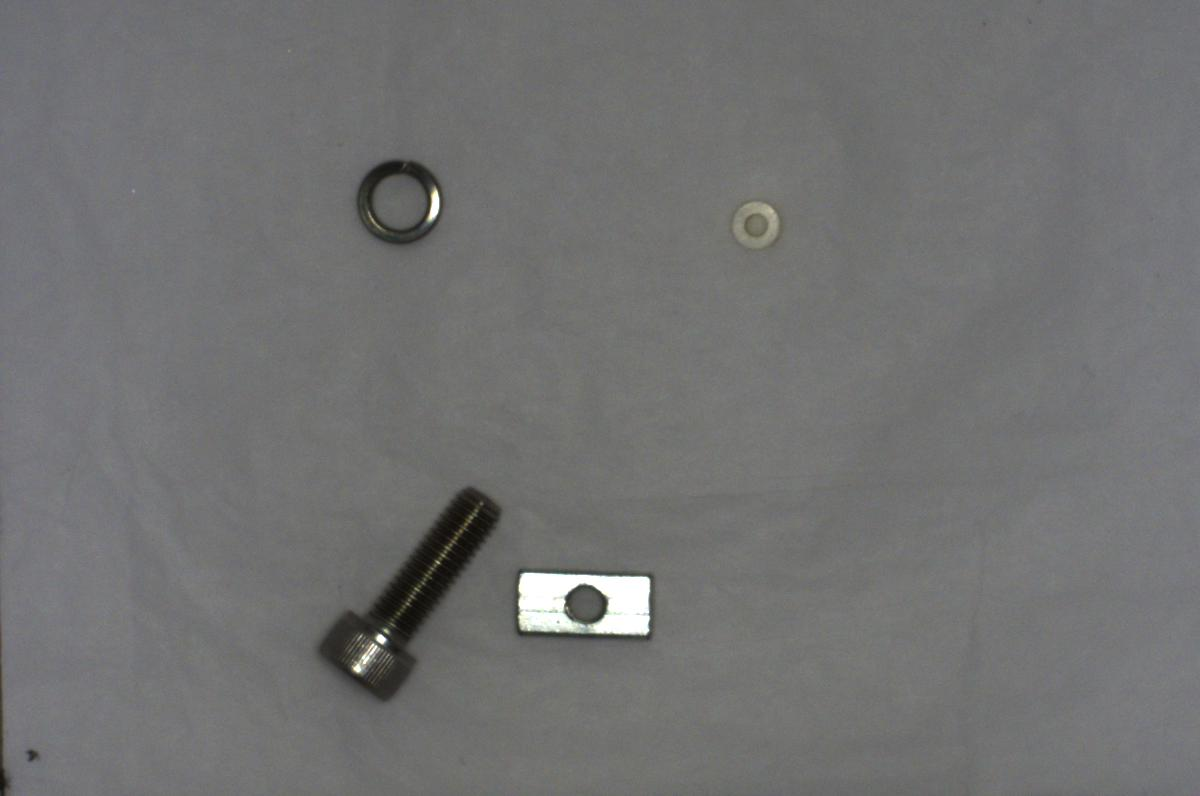Hexagon screw: (314, 469, 499, 699)
Plastic cushion pillar: (722, 190, 785, 258)
Rectangular nut: (501, 563, 666, 645)
Spring washer: (350, 153, 446, 246)
